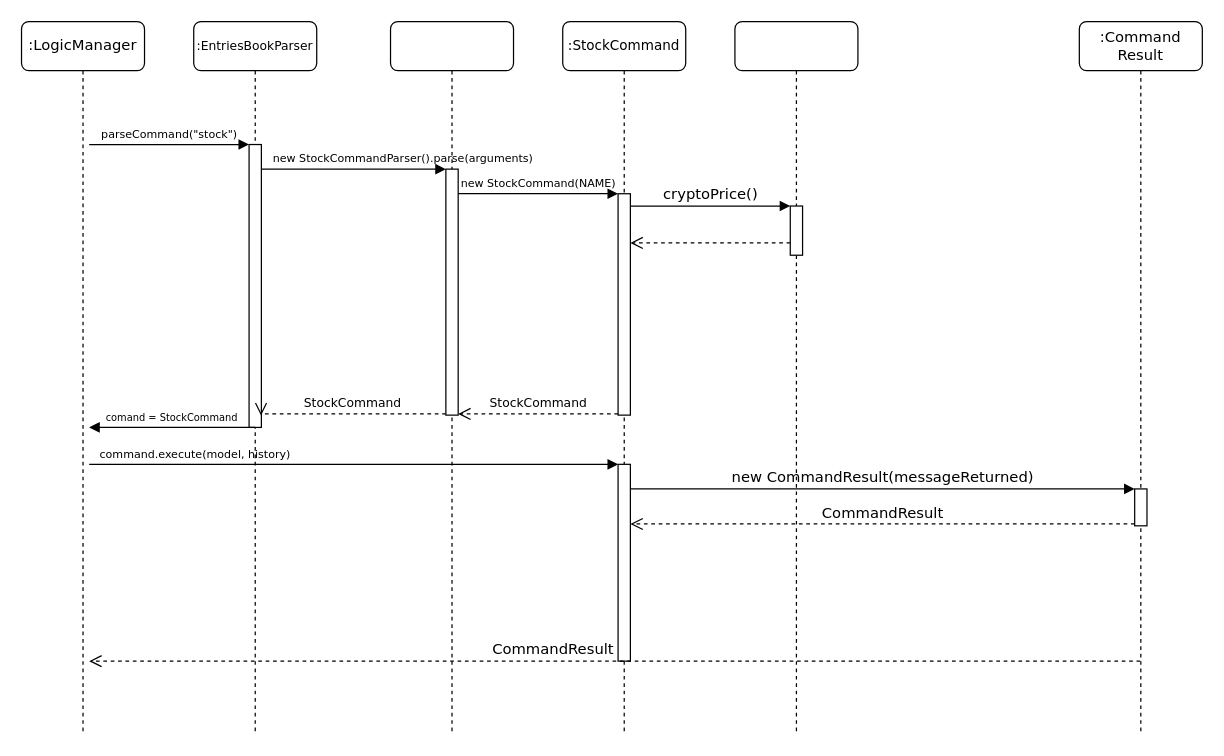
The diagram is 1224 pixels wide and 756 high, and some of its shapes have lost their labels. Here are the shapes that lost their labels. From the top down, the box of each, then its label:
(389, 20, 514, 735): :StockCommandParser
(734, 20, 858, 735): Alpha Vantage API
